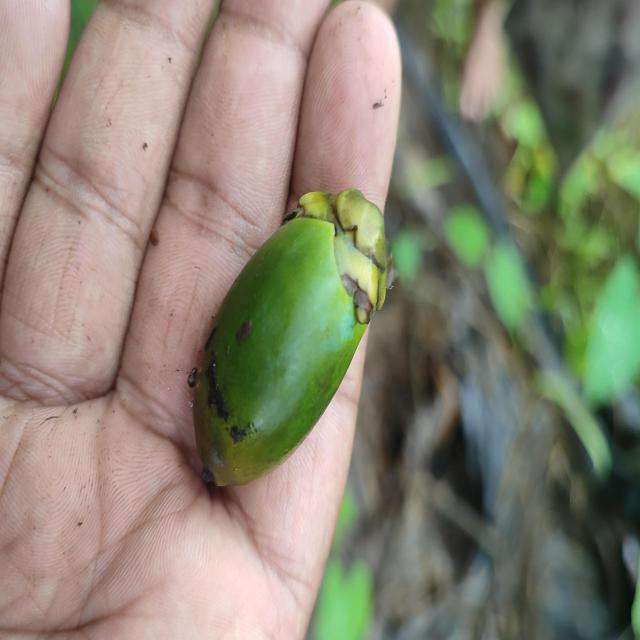damaged: (189, 190, 393, 491)
